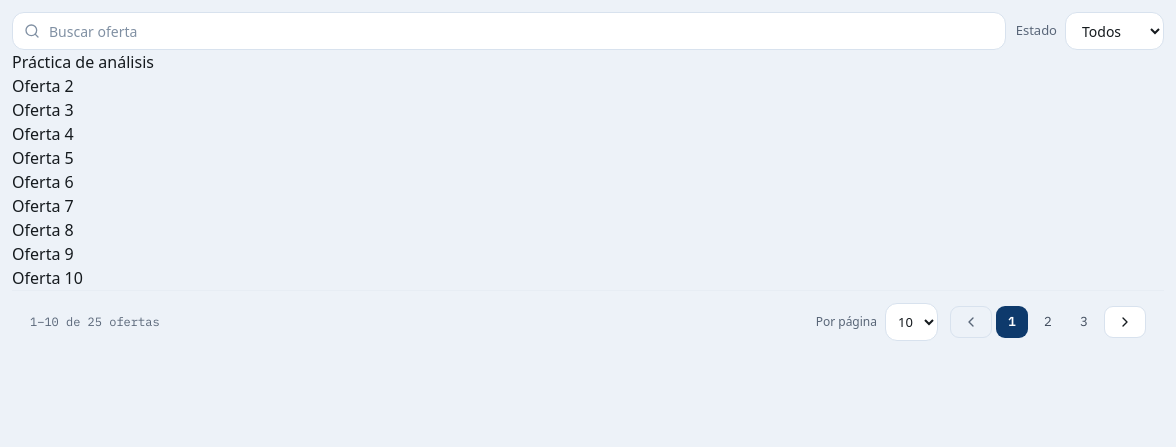
Test: search field: special characters › blocks special characters while typing and explains why
This screenshot has width=1176, height=447.
Type "oferta<1>" into the search field labelled "Buscar oferta".
click(509, 31); type("oferta<1>")  # box [12, 12, 1006, 50]
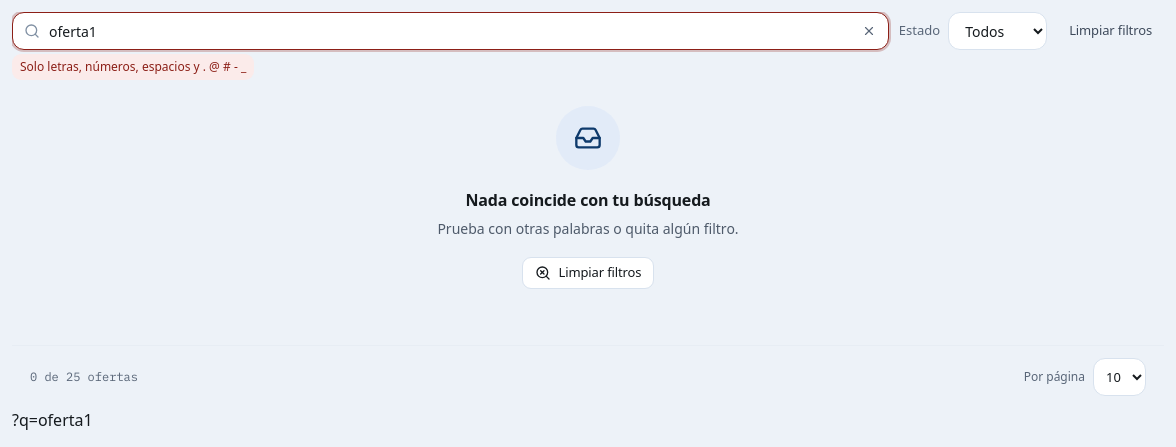
Expected: the search field named "Buscar oferta" holds "oferta1", [12, 12, 889, 50]
Expected: the text "Solo letras, números, espacios y . @ # - _" is shown, [12, 54, 254, 80]
